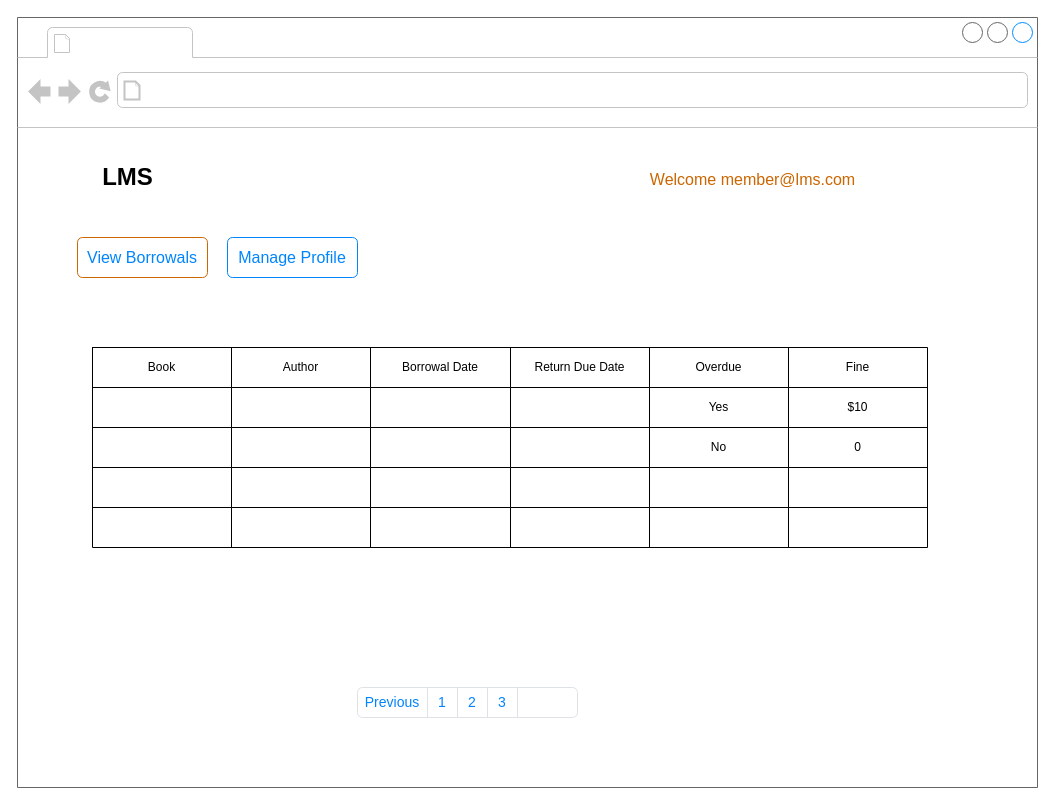
This 1055x805 diagram has some shape labels left out. The shapes that lost their labels are listed below. From the top down, each one's centre as x and y in pixels, then its label:
the point at 132,42: Page 1
the point at 272,90: LMS HOME / MemberBorrowals
the point at 547,702: Next
